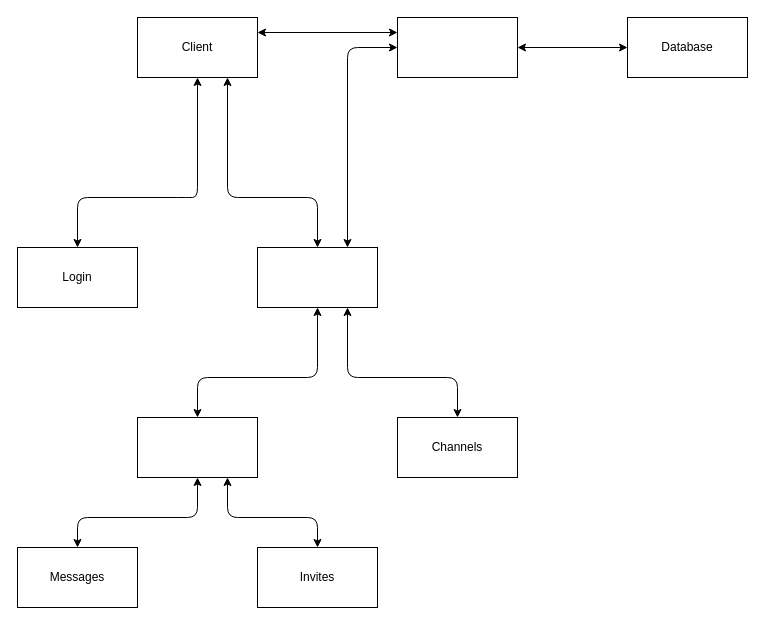
Image size: 765x625. Some labels were removed from this diagram. The centre of each missing label's shape, as x and y in pixels:
"ChatDashboard" goes at [317,277].
"ChatRoom" goes at [197,447].
"Server" goes at [457,47].
